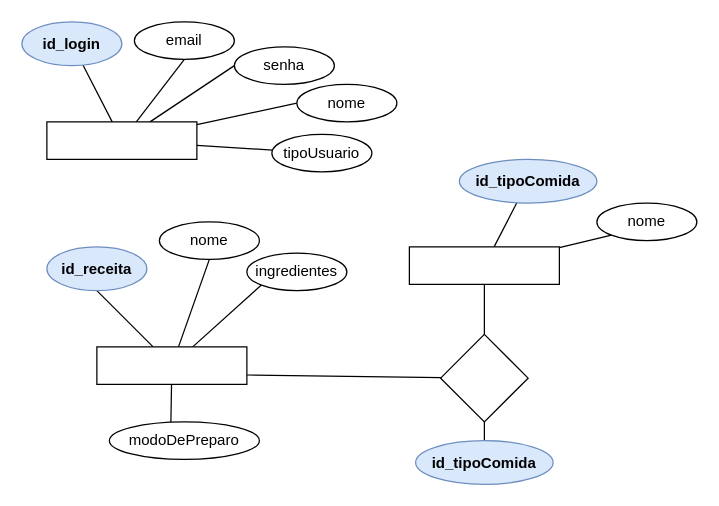
Image size: 719x506. Some labels were removed from this diagram. The shapes that lost their labels are listed below. From the top down, each one's centre as x and y in pixels, then its label:
the point at 121,140: login
the point at 483,265: tiposComida
the point at 171,365: receita
the point at 483,377: possui
